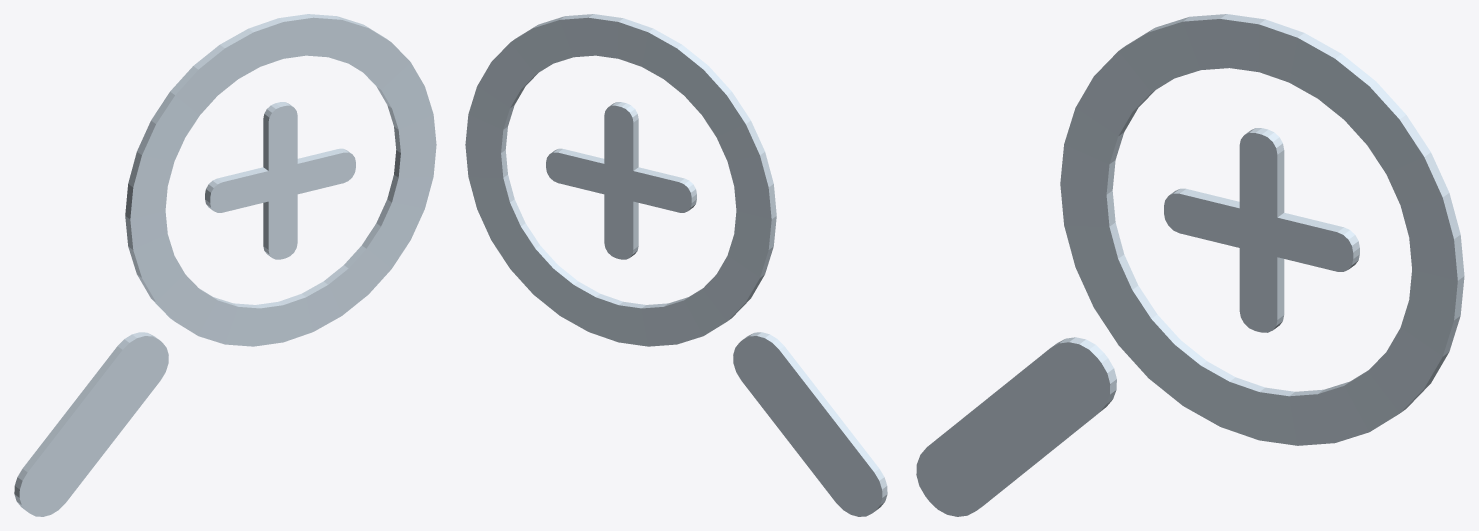
File: Zoom_In_3D_Icon.fbx
The picture shows the model from 3 angles, left to right: view 1: azimuth 30°, elevation 25°; view 2: azimuth 150°, elevation 25°; view 3: azimuth 330°, elevation 25°; orthographic projection. The views are drawn at different scales.
Parts seen in each view (by area): view 1: Zoom_In_3D_Icon; view 2: Zoom_In_3D_Icon; view 3: Zoom_In_3D_Icon.
Part boxes in pixels (bbox=[...]): Zoom_In_3D_Icon: bbox=[14, 14, 436, 516]; Zoom_In_3D_Icon: bbox=[465, 14, 887, 516]; Zoom_In_3D_Icon: bbox=[916, 14, 1464, 516].
Bounding box in the file's own units: 89.25 × 89.25 × 1.93.
